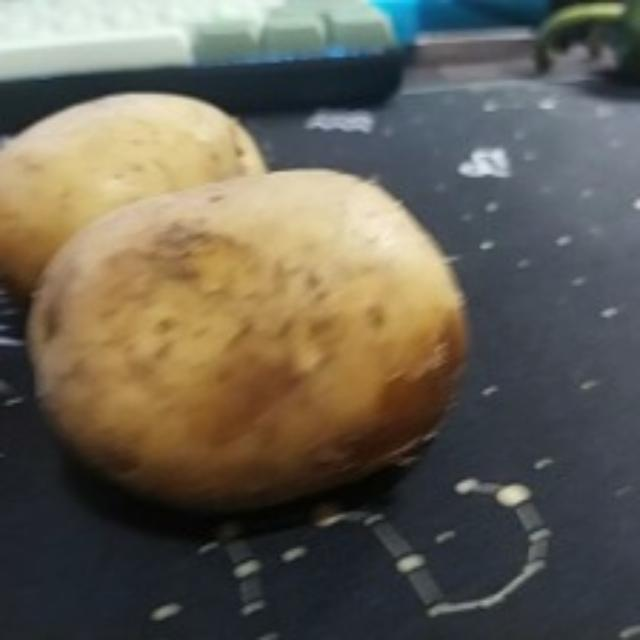Damaged potato: (28, 168, 478, 514)
Potato: (2, 94, 266, 288)
